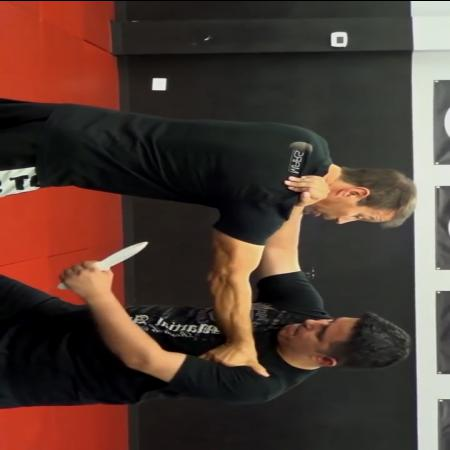long weapon: (55, 239, 153, 292)
